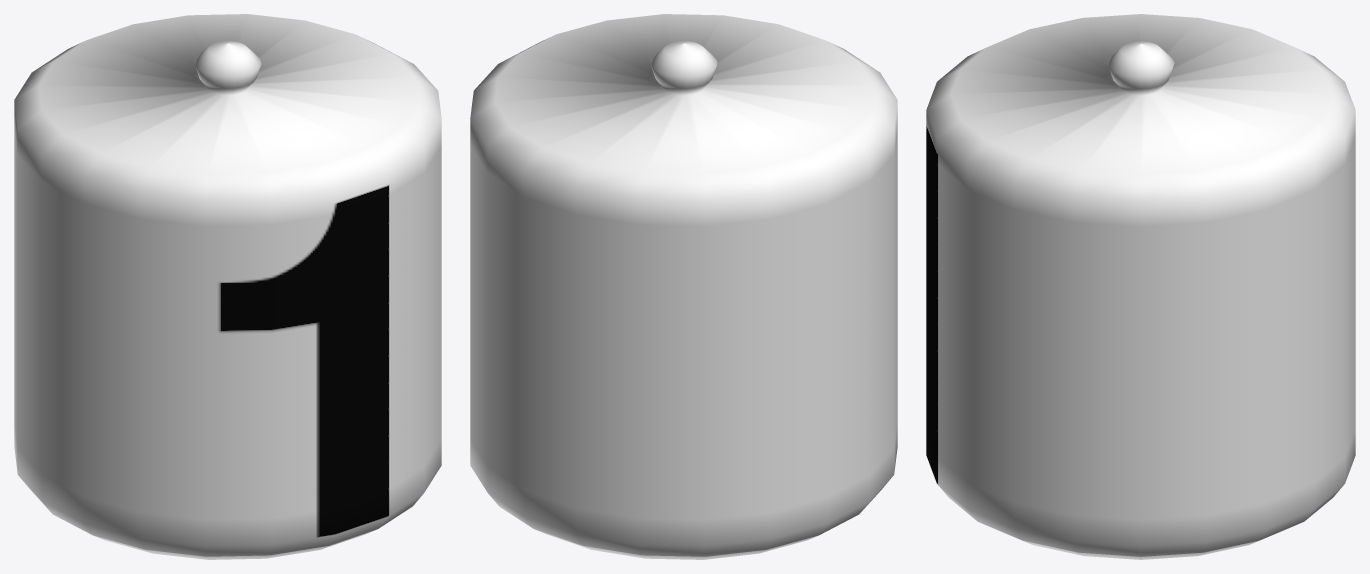
The model's file is weidth.FBX.
3 views of the same model, side by side, from view 1: azimuth 30°, elevation 25°; view 2: azimuth 150°, elevation 25°; view 3: azimuth 270°, elevation 25° (orthographic).
Parts seen in each view (by area): view 1: Cylinder001; view 2: Cylinder001; view 3: Cylinder001.
Boxes of the visible parts, <box> form: Cylinder001: <box>14,14,441,559</box>; Cylinder001: <box>470,14,897,559</box>; Cylinder001: <box>926,14,1355,559</box>.
Bounding box in the file's own units: 60 × 67.64 × 60.
Materials: 1 (1 with a texture image).
